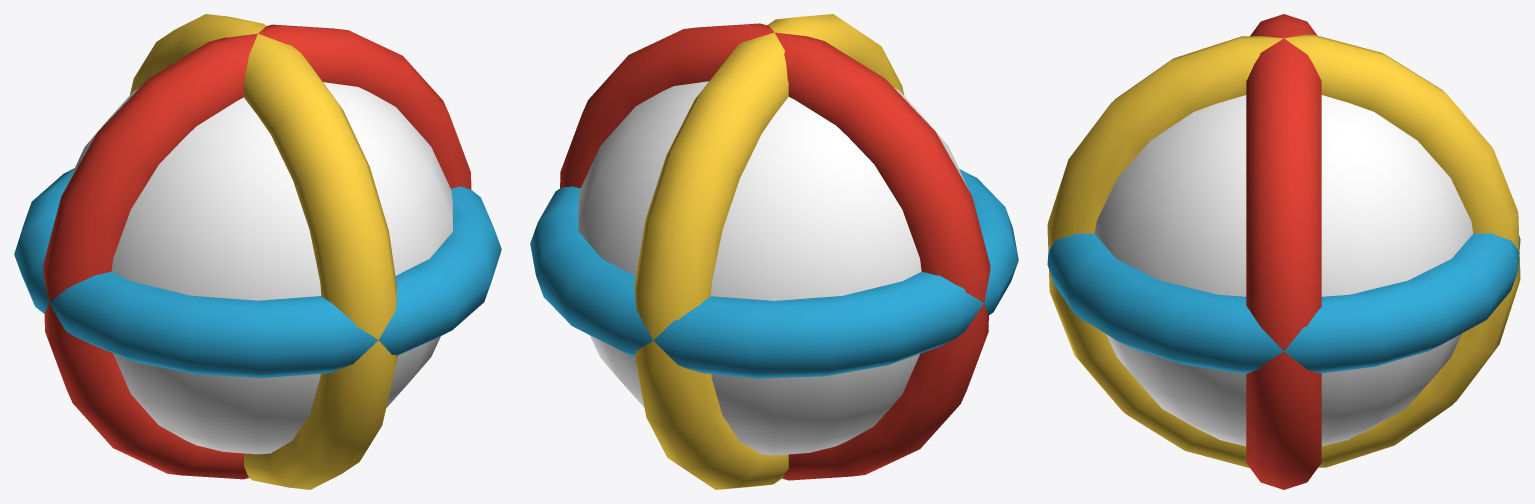
File: item_beachball.fbx
The picture shows the model from 3 angles, left to right: view 1: azimuth 30°, elevation 25°; view 2: azimuth 150°, elevation 25°; view 3: azimuth 270°, elevation 25°; orthographic projection. The views are drawn at different scales.
Visible parts, largest first — view 1: M__item_beachball; view 2: M__item_beachball; view 3: M__item_beachball.
Part boxes in pixels (left/top/right/bottom): M__item_beachball: left=14, top=14, right=501, bottom=489; M__item_beachball: left=530, top=14, right=1018, bottom=489; M__item_beachball: left=1047, top=14, right=1520, bottom=489.
Bounding box in the file's own units: 0.238 × 0.238 × 0.238.
